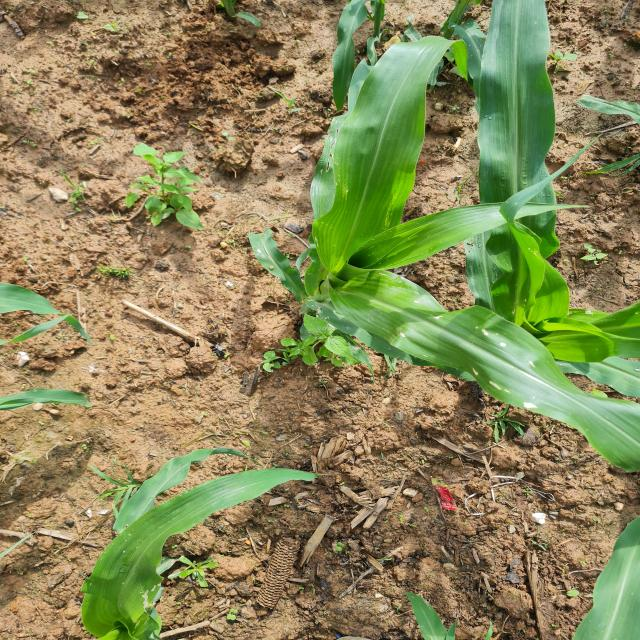maize: (313, 60, 640, 416), (68, 438, 296, 640), (298, 5, 550, 103), (8, 276, 102, 421)
weed: (125, 138, 212, 237)
